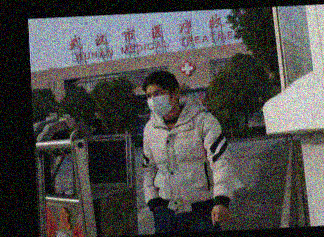with_mask: (144, 88, 173, 116)
